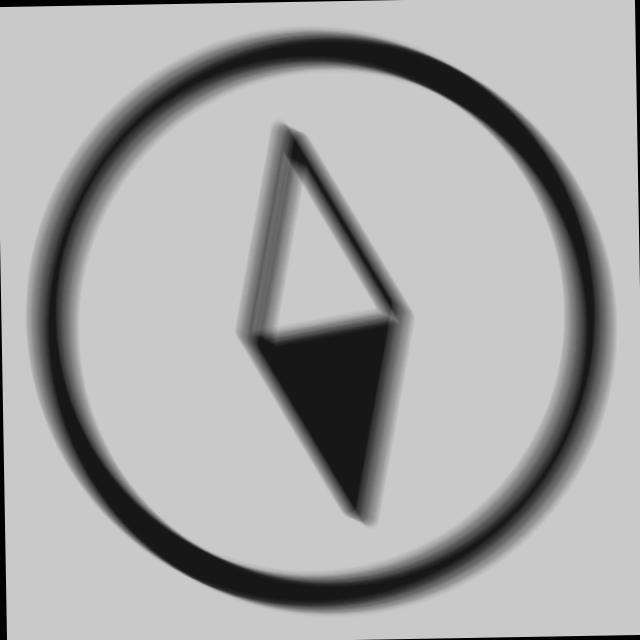compass: (12, 10, 630, 623)
